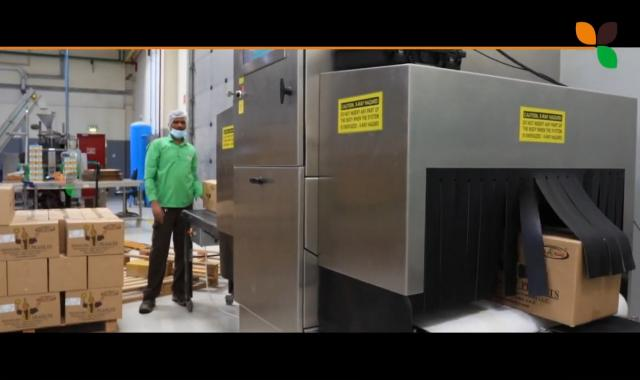hairnet: (166, 108, 189, 132)
